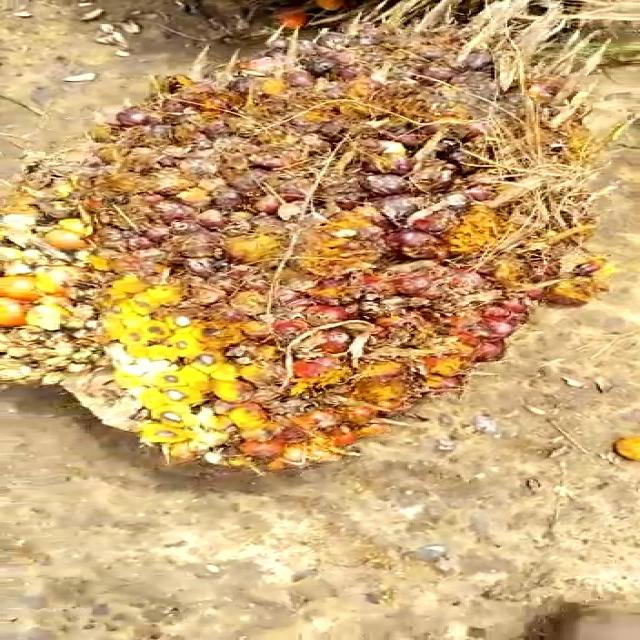palm oil: (0, 18, 599, 474)
